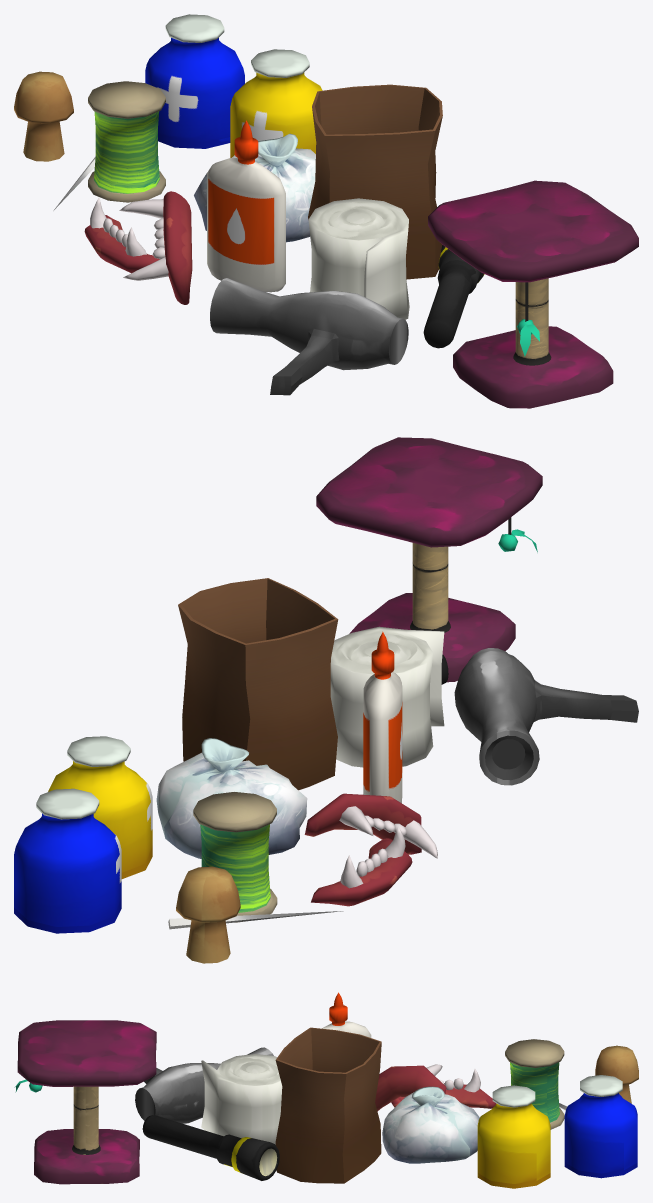
The model's file is Medicine_tools.FBX.
3 views of the same model, one above another, from view 1: azimuth 30°, elevation 25°; view 2: azimuth 150°, elevation 25°; view 3: azimuth 270°, elevation 25° (orthographic). The views are drawn at different scales.
Visible parts, largest first — view 1: Cat_scratcher, Paper bag, Hairdryer, Glue, Blue_Pills, Bandages, Thread, Dentures, Yellow_Pills, Ice, Cork, Torch; view 2: Paper bag, Cat_scratcher, Blue_Pills, Hairdryer, Bandages, Ice, Dentures, Thread, Yellow_Pills, Glue, Cork; view 3: Cat_scratcher, Paper bag, Yellow_Pills, Blue_Pills, Bandages, Ice, Torch, Hairdryer, Thread, Dentures, Cork, Glue.
Part boxes in pixels (<box>): Cat_scratcher: <box>428,180,638,408</box>; Paper bag: <box>308,84,442,279</box>; Hairdryer: <box>210,278,408,395</box>; Glue: <box>207,120,285,292</box>; Blue_Pills: <box>145,14,244,148</box>; Bandages: <box>308,198,409,319</box>; Thread: <box>53,81,165,210</box>; Dentures: <box>84,191,192,304</box>; Yellow_Pills: <box>230,49,322,157</box>; Ice: <box>194,133,315,242</box>; Cork: <box>14,71,73,161</box>; Torch: <box>423,245,484,348</box>; Paper bag: <box>178,578,338,790</box>; Cat_scratcher: <box>316,437,542,682</box>; Blue_Pills: <box>14,788,121,933</box>; Hairdryer: <box>454,648,638,785</box>; Bandages: <box>330,626,444,767</box>; Ice: <box>156,738,307,858</box>; Dentures: <box>304,793,437,906</box>; Thread: <box>168,792,343,929</box>; Yellow_Pills: <box>48,736,152,878</box>; Glue: <box>363,631,402,803</box>; Cork: <box>176,866,240,963</box>; Cat_scratcher: <box>14,1020,156,1184</box>; Paper bag: <box>275,1027,381,1183</box>; Yellow_Pills: <box>477,1085,550,1188</box>; Blue_Pills: <box>564,1075,637,1178</box>; Bandages: <box>201,1054,282,1144</box>; Ice: <box>382,1086,479,1163</box>; Torch: <box>142,1115,279,1180</box>; Hairdryer: <box>135,1047,273,1123</box>; Thread: <box>505,1039,566,1129</box>; Dentures: <box>375,1064,496,1111</box>; Cork: <box>595,1045,638,1103</box>; Glue: <box>322,992,371,1037</box>.
Size of the model in its own units: 87.62 by 50.53 by 204.
12 materials, 12 textured.
